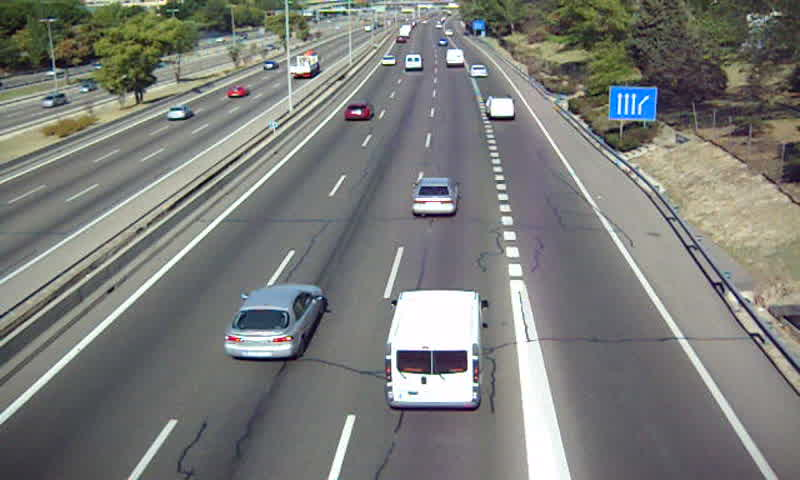car: (224, 283, 325, 359), (412, 177, 458, 216), (344, 103, 374, 120), (470, 64, 489, 78), (380, 53, 396, 66)
van: (384, 290, 486, 409), (486, 96, 515, 119), (445, 48, 464, 67), (404, 53, 422, 71)
